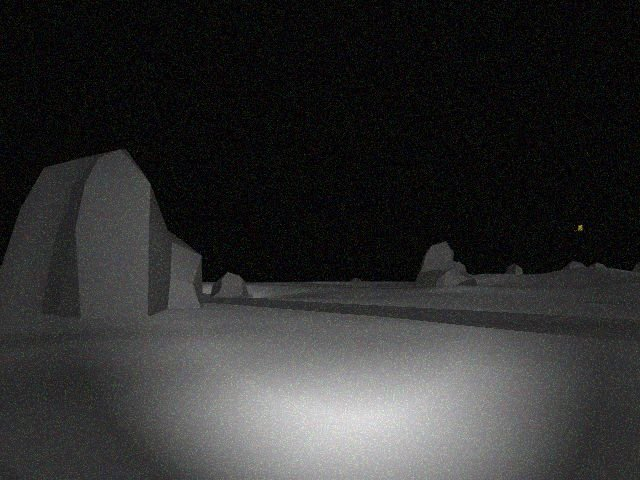cubesat: (575, 223, 585, 233)
